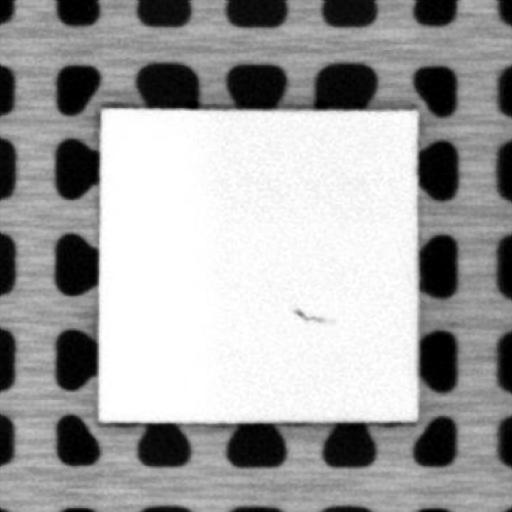DIE_INK: (290, 304, 332, 326)
